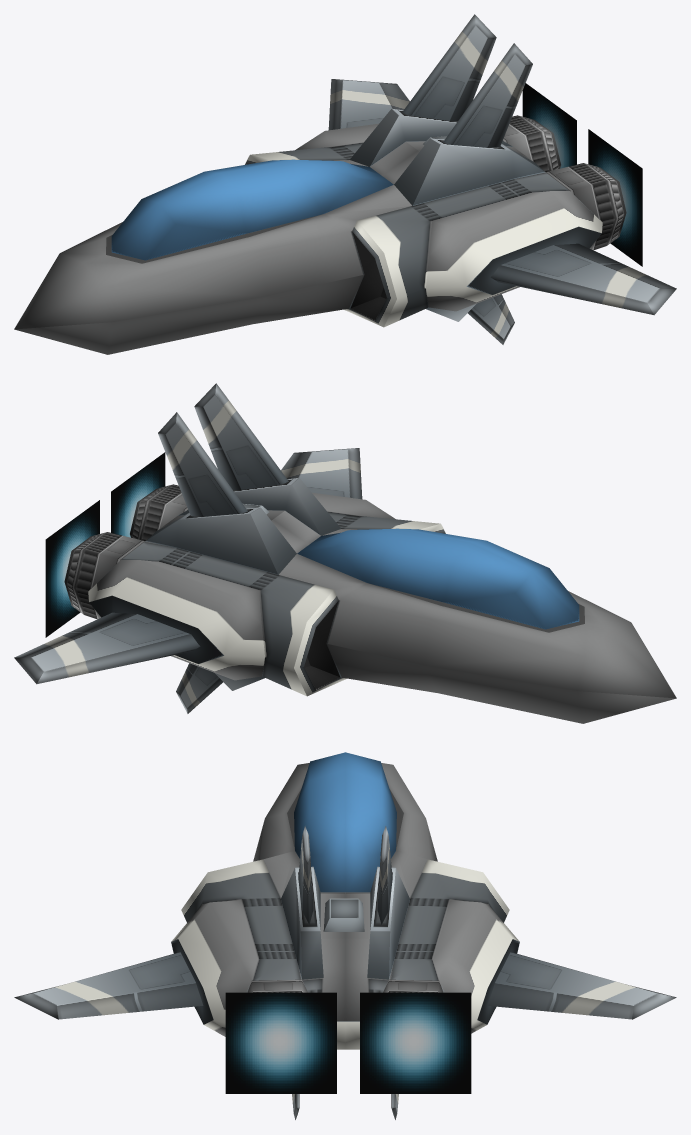
The model's file is Player.obj.
3 views of the same model, one above another, from view 1: azimuth 30°, elevation 25°; view 2: azimuth 150°, elevation 25°; view 3: azimuth 270°, elevation 25° (orthographic). The views are drawn at different scales.
Visible parts, largest first — view 1: Ship Body Body, Ship Body Cockpit, Ship Wings_Left Body Left, Exhaust Ship, Ship Body Wings_Right Right_Top, Ship Wings_Left Body Left_Top, Ship Body Wings_Right Right, Ship Left_Under Wings_Left Body; view 2: Ship Body Body, Ship Body Cockpit, Ship Body Wings_Right Right, Exhaust Ship, Ship Wings_Left Body Left_Top, Ship Body Wings_Right Right_Top, Ship Wings_Left Body Left, Ship Body Right_Under Wings_Right; view 3: Ship Body Body, Exhaust Ship, Ship Body Cockpit, Ship Wings_Left Body Left, Ship Body Wings_Right Right, Ship Cap, Ship Wings_Left Body Left_Top, Ship Body Wings_Right Right_Top.
Boxes of the visible parts, <box> form: Ship Body Body: <box>14,108,626,354</box>; Ship Body Cockpit: <box>111,159,393,260</box>; Ship Wings_Left Body Left: <box>490,243,676,315</box>; Exhaust Ship: <box>522,83,642,266</box>; Ship Body Wings_Right Right_Top: <box>402,14,496,120</box>; Ship Wings_Left Body Left_Top: <box>443,43,532,147</box>; Ship Body Wings_Right Right: <box>328,79,409,130</box>; Ship Left_Under Wings_Left Body: <box>468,294,514,344</box>; Ship Body Body: <box>64,477,676,723</box>; Ship Body Cockpit: <box>297,528,579,629</box>; Ship Body Wings_Right Right: <box>14,612,200,684</box>; Exhaust Ship: <box>45,452,165,637</box>; Ship Wings_Left Body Left_Top: <box>194,383,288,489</box>; Ship Body Wings_Right Right_Top: <box>158,412,247,516</box>; Ship Wings_Left Body Left: <box>281,448,362,499</box>; Ship Body Right_Under Wings_Right: <box>176,663,222,713</box>; Ship Body Body: <box>171,763,519,1049</box>; Exhaust Ship: <box>225,992,471,1093</box>; Ship Body Cockpit: <box>294,752,396,892</box>; Ship Wings_Left Body Left: <box>14,952,203,1019</box>; Ship Body Wings_Right Right: <box>487,952,676,1019</box>; Ship Cap: <box>323,898,364,931</box>; Ship Wings_Left Body Left_Top: <box>298,826,313,924</box>; Ship Body Wings_Right Right_Top: <box>377,826,392,924</box>.
Bounding box in the file's own units: 3.94 × 1.95 × 3.87.
Materials: 3 (3 with a texture image).
